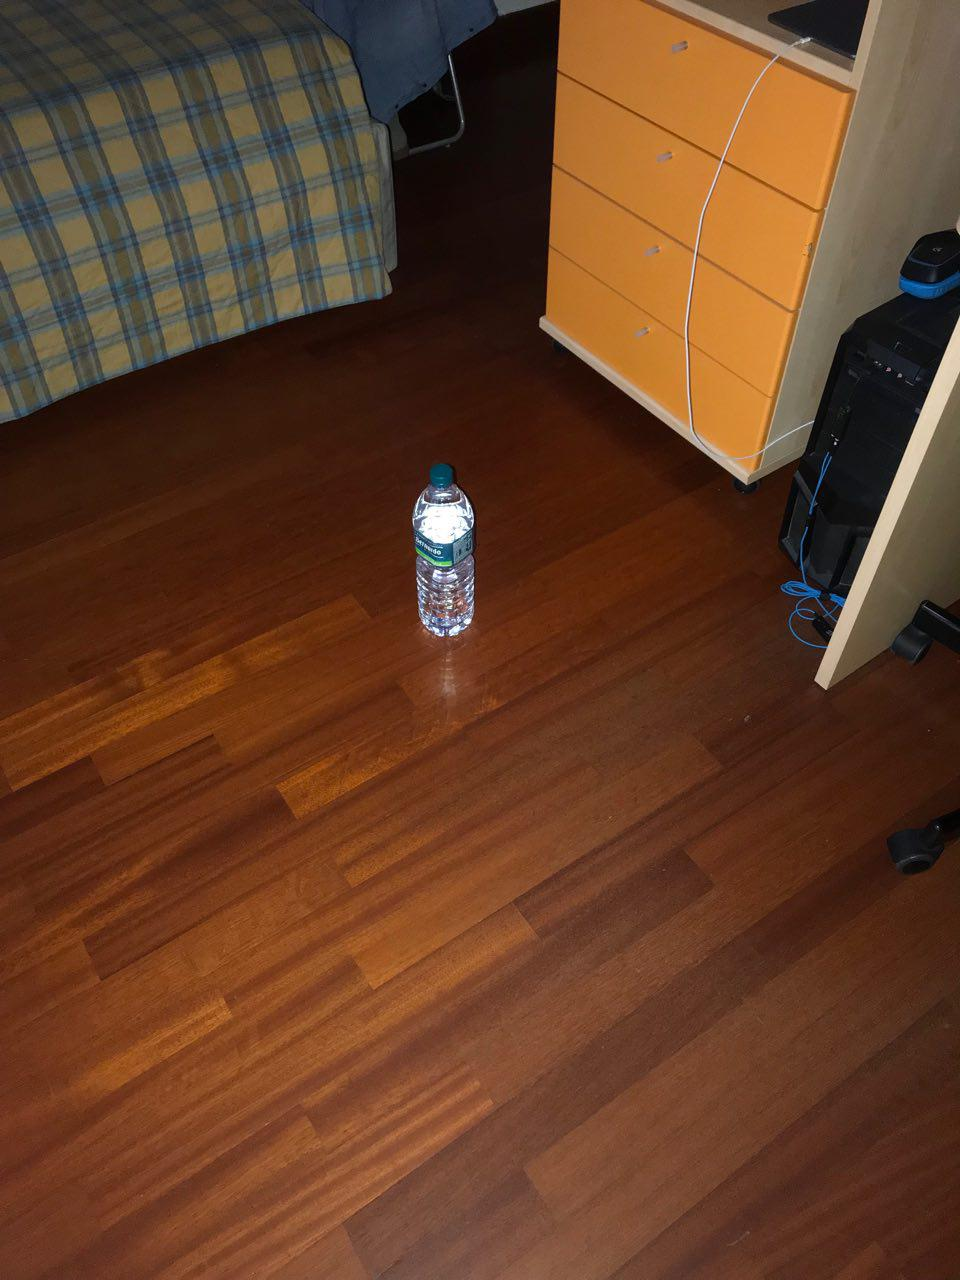san_bernardo: (410, 464, 475, 639)
